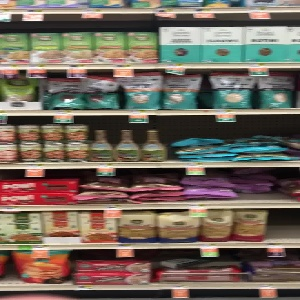void: (237, 166, 294, 201), (266, 208, 299, 244)
